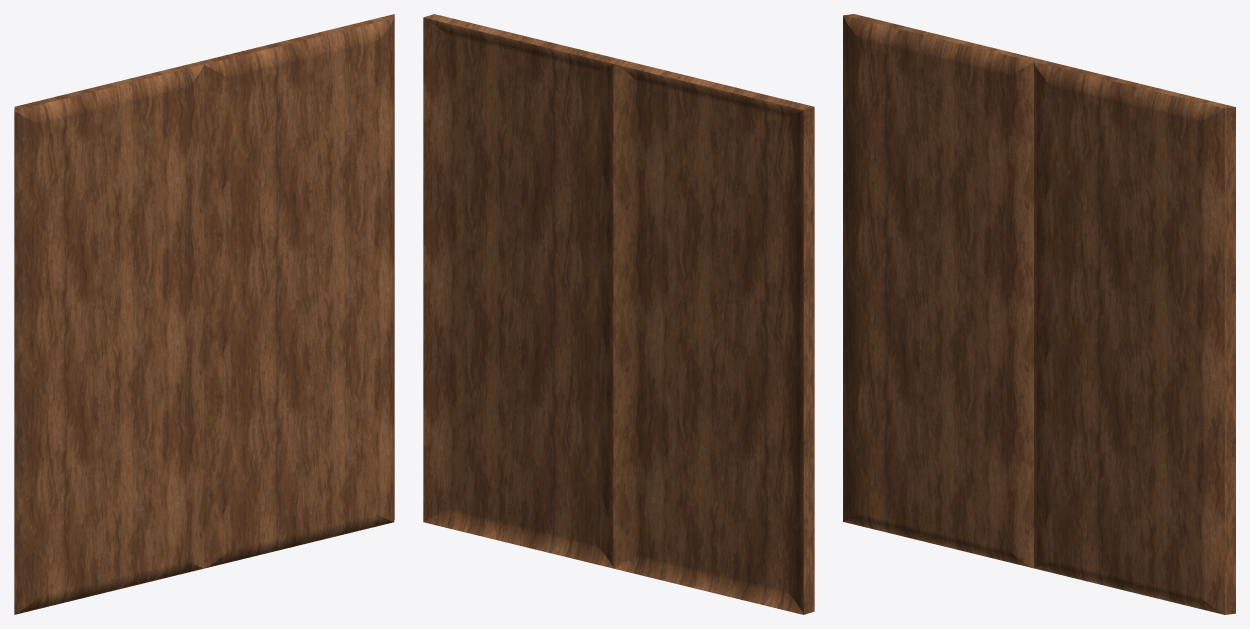
Rendered from PG-08 - Grove.glb.
The picture shows the model from 3 angles, left to right: view 1: azimuth 30°, elevation 25°; view 2: azimuth 150°, elevation 25°; view 3: azimuth 330°, elevation 25°; orthographic projection.
Visible parts, largest first — view 1: panel-parts4-.001; view 2: panel-parts4-.001; view 3: panel-parts4-.001.
Boxes of the visible parts, left/top/right/bottom form: panel-parts4-.001: left=14, top=14, right=394, bottom=614; panel-parts4-.001: left=423, top=14, right=814, bottom=614; panel-parts4-.001: left=843, top=14, right=1235, bottom=614.
Size of the model in its own units: 2.46 by 3.07 by 0.1009.
Materials: 1 (1 with a texture image).
